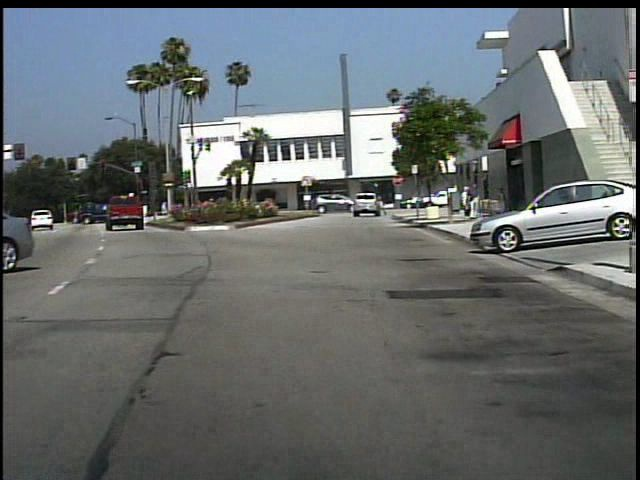person: (468, 182, 482, 223), (492, 185, 509, 218), (459, 185, 471, 217)
